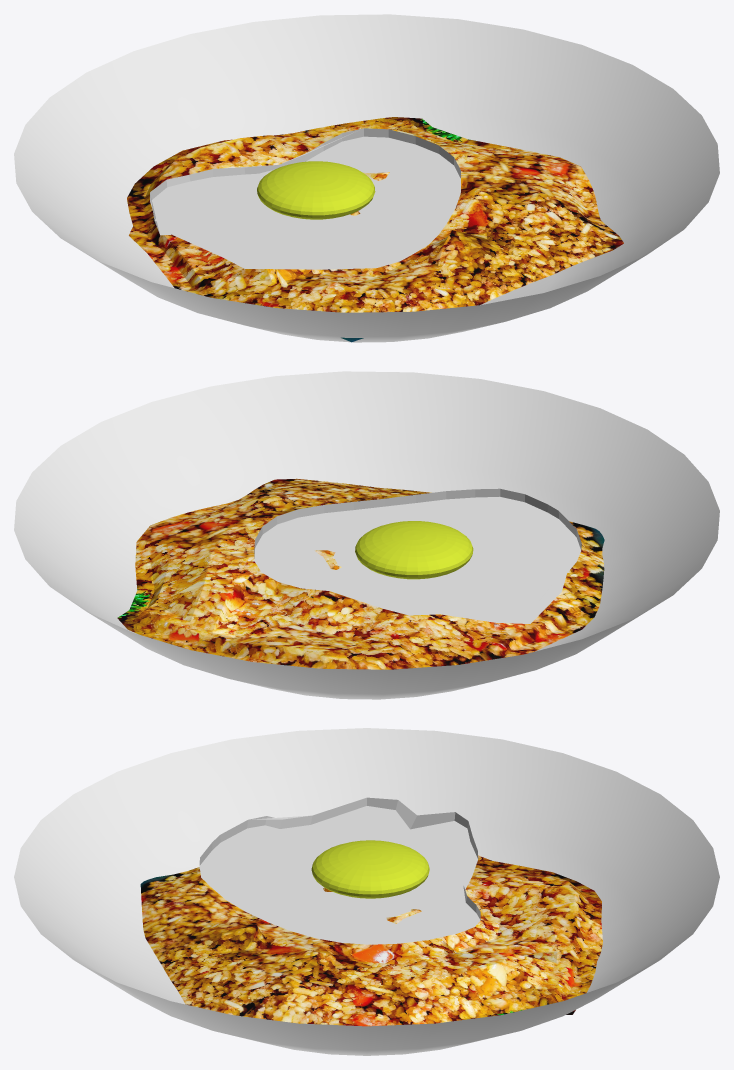
Rendered from goreng.glb.
The picture shows the model from 3 angles, top to bottom: view 1: azimuth 30°, elevation 25°; view 2: azimuth 150°, elevation 25°; view 3: azimuth 270°, elevation 25°; orthographic projection.
Visible parts, largest first — view 1: Sphere, Plane, Circle, Sphere.001; view 2: Sphere, Plane, Circle, Sphere.001; view 3: Sphere, Plane, Circle, Sphere.001.
Part boxes in pixels (x1,y1,x2,y2): Sphere: (14,14,719,342); Plane: (127,117,623,342); Circle: (150,128,460,269); Sphere.001: (257,161,375,219); Sphere: (14,371,719,699); Plane: (117,478,604,669); Circle: (254,488,581,623); Sphere.001: (355,521,473,579); Sphere: (14,728,719,1055); Plane: (140,855,602,1026); Circle: (199,797,480,944); Sphere.001: (311,840,429,898).
Size of the model in its own units: 6.25 by 0.9583 by 6.25.
Materials: 3 (1 with a texture image).
